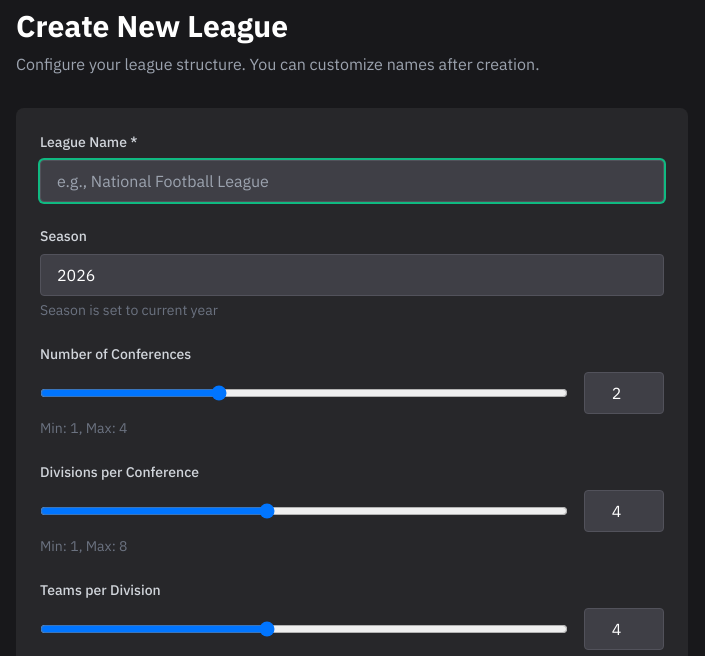
Test: CreateLeaguePage › should display error message on submission failure
The width and height of the screenshot is (705, 656).
Type "Test League" into the field labelled "League Name *".
click(352, 181); type("Test League")  # box 40,160 -> 664,202
(page scrolled)
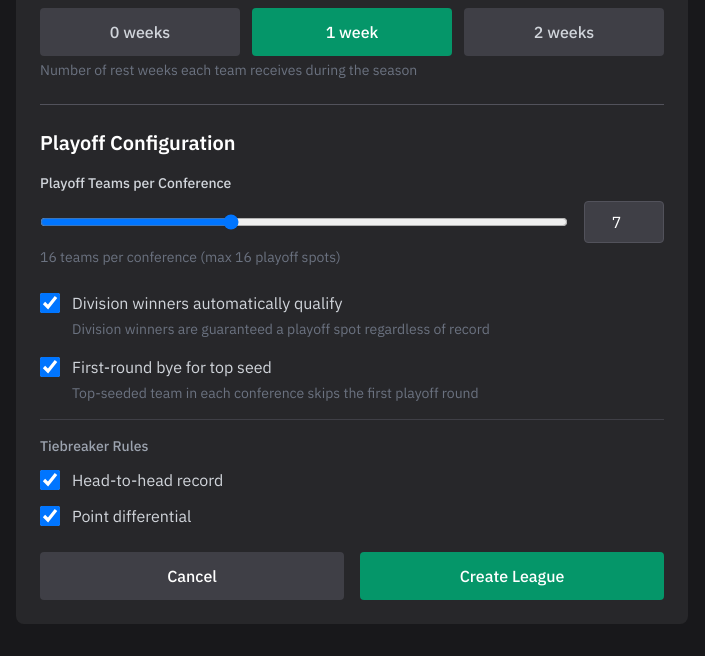
Click the button "Create League".
click(512, 576)  # box 360,552 -> 664,600
(page scrolled)
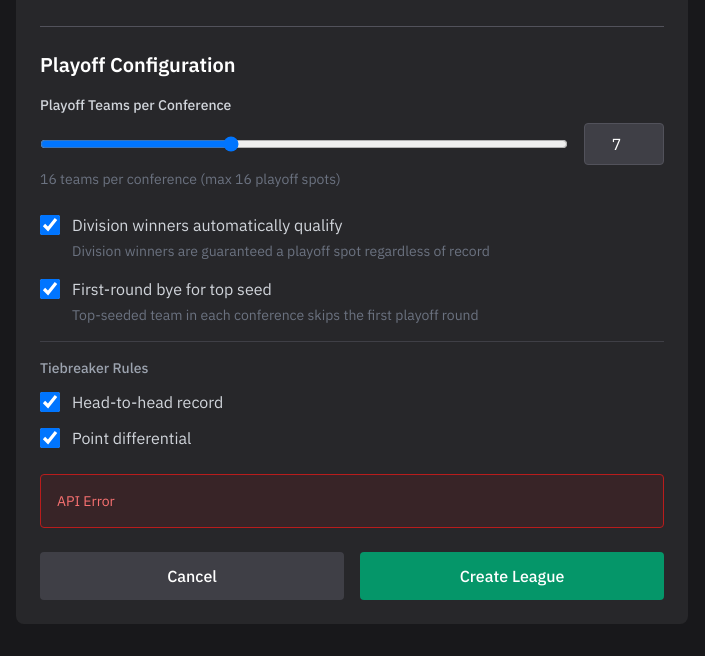
Check: the text "API Error" is shown, box 57,492 -> 115,510
